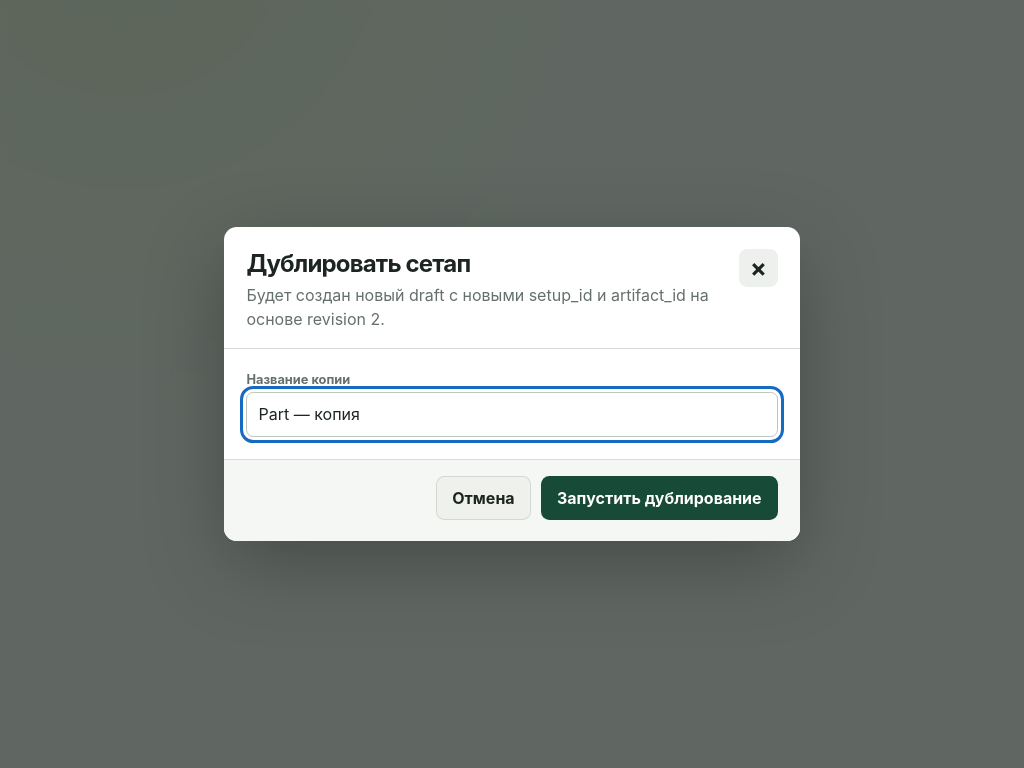
Test: setup job dialogs › preserves the requested duplicate name after a revision conflict
Replace the text in the field labelled "Название копии" with "Моя сохранённая копия" at (512, 414), box x1=246 y1=392 x2=778 y2=437
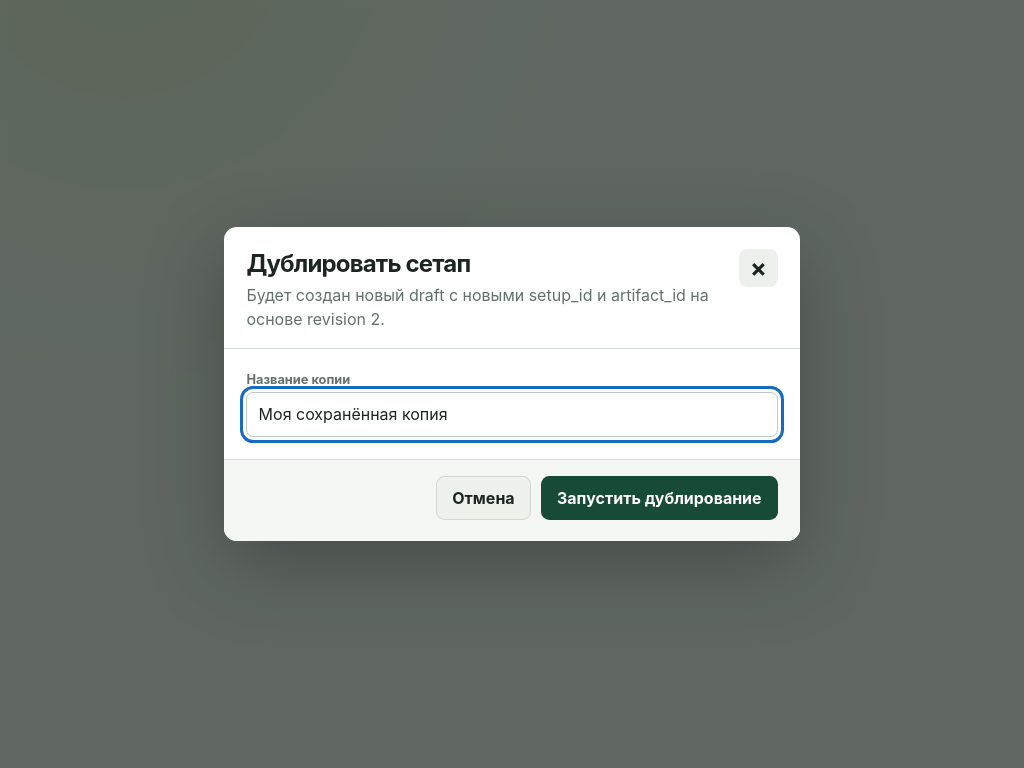
Click the button "Запустить дублирование".
click(659, 498)  # box x1=541 y1=476 x2=778 y2=520
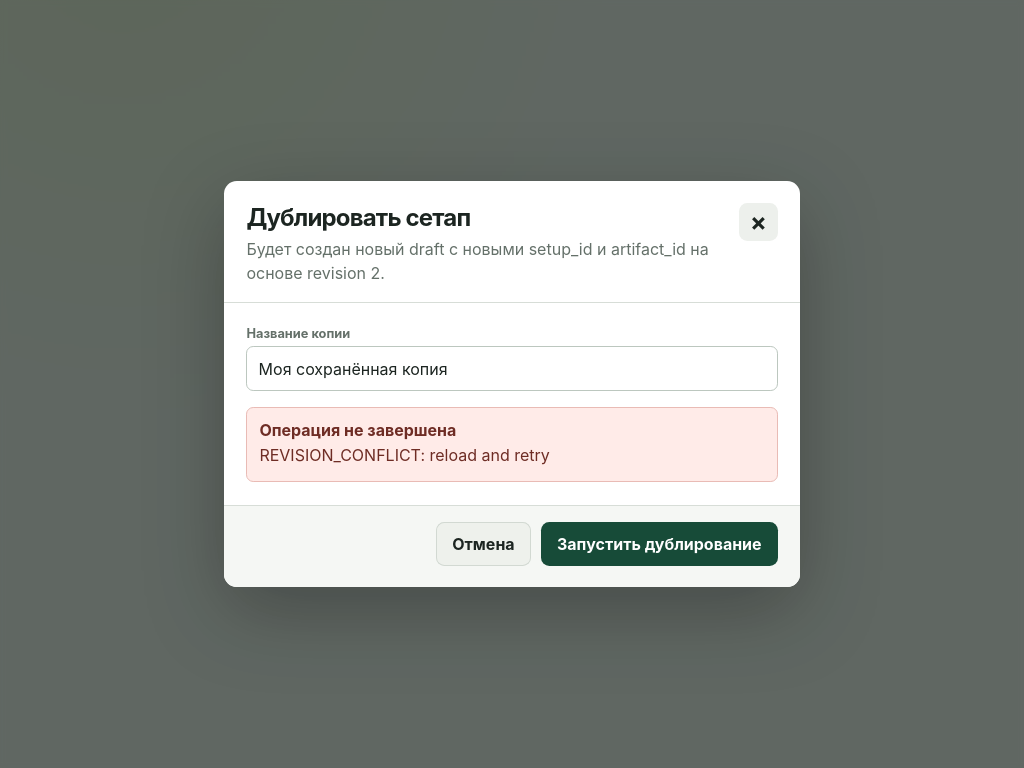
Check: the message shows "REVISION_CONFLICT", box x1=259 y1=445 x2=550 y2=465
